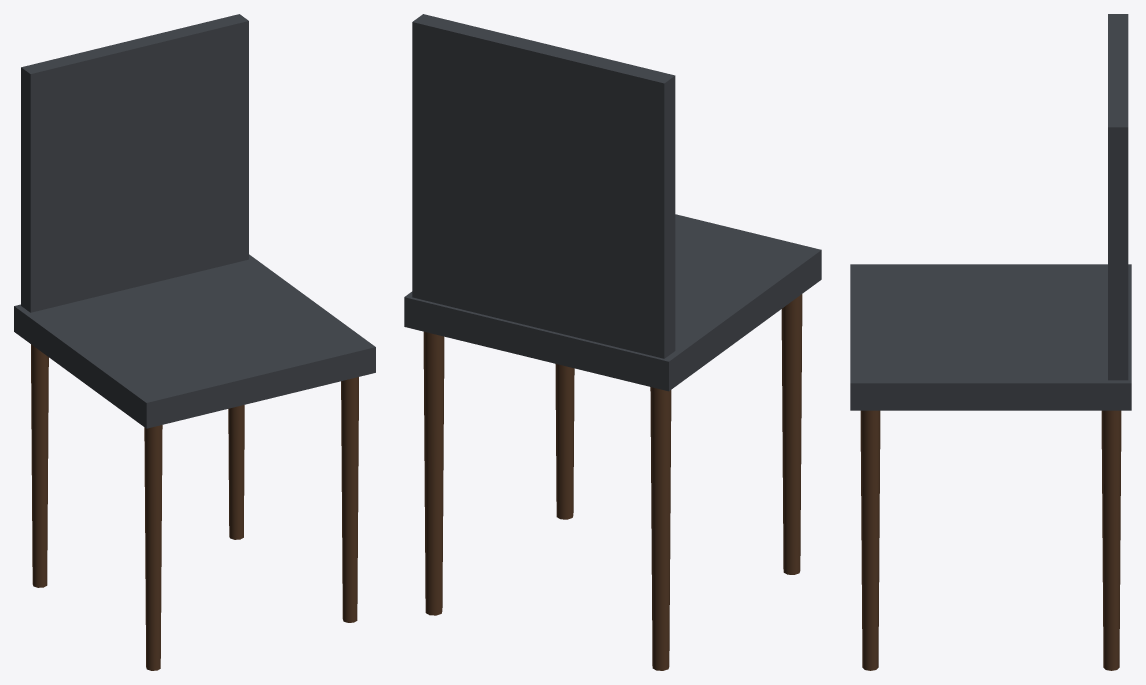
The model's file is dining_chair.glb.
The picture shows the model from 3 angles, left to right: view 1: azimuth 30°, elevation 25°; view 2: azimuth 150°, elevation 25°; view 3: azimuth 270°, elevation 25°; orthographic projection. The views are drawn at different scales.
Bounding box in the file's own units: 0.42 × 0.9 × 0.42.
